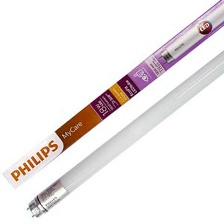book: (2, 0, 223, 190)
light_bulb: (24, 47, 224, 220)
